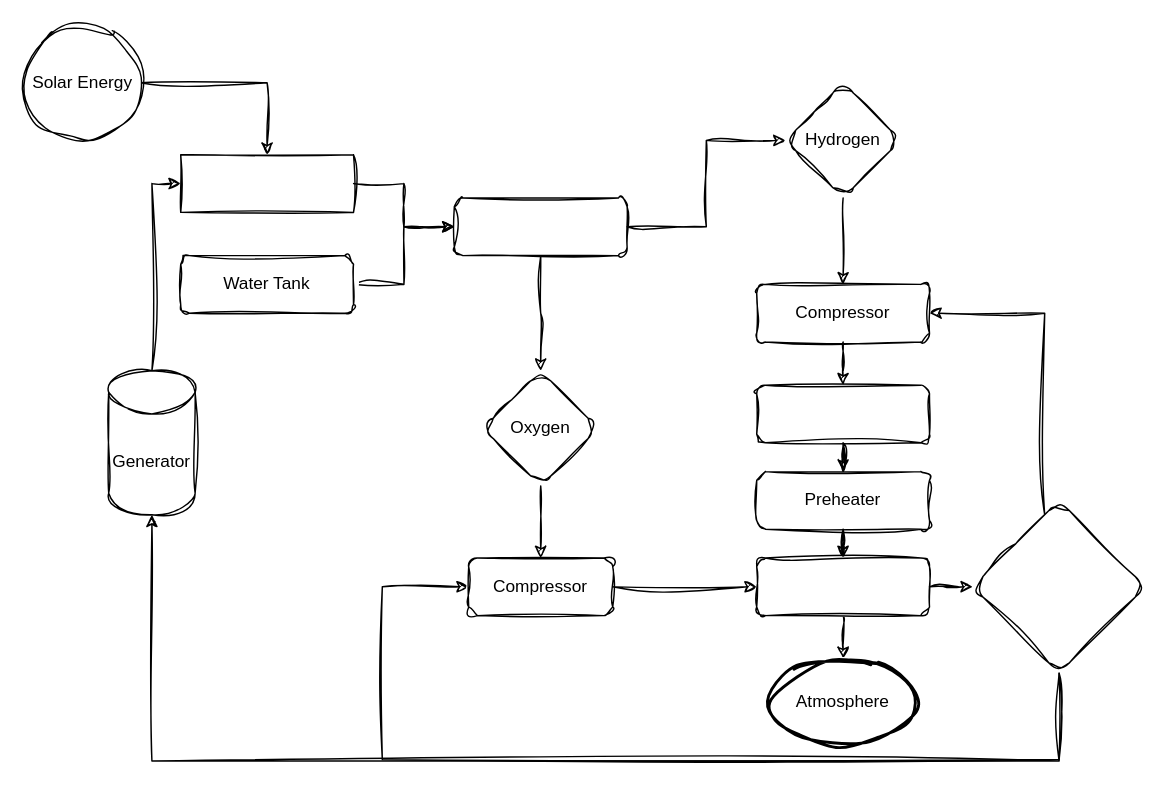
The diagram is 1171 pixels wide and 798 high, and some of its shapes have lost their labels. The shapes that lost their labels are listed below. From the top down, each one's centre as x and y in pixels, then its label:
At (266,182): "Dc Power Supply 12V".
At (540,226): "Electrolysis Setup".
At (842,413): "Hydrogen Tank".
At (842,586): "Engine".
At (1058,586): "Power From The Crank Shaft".
